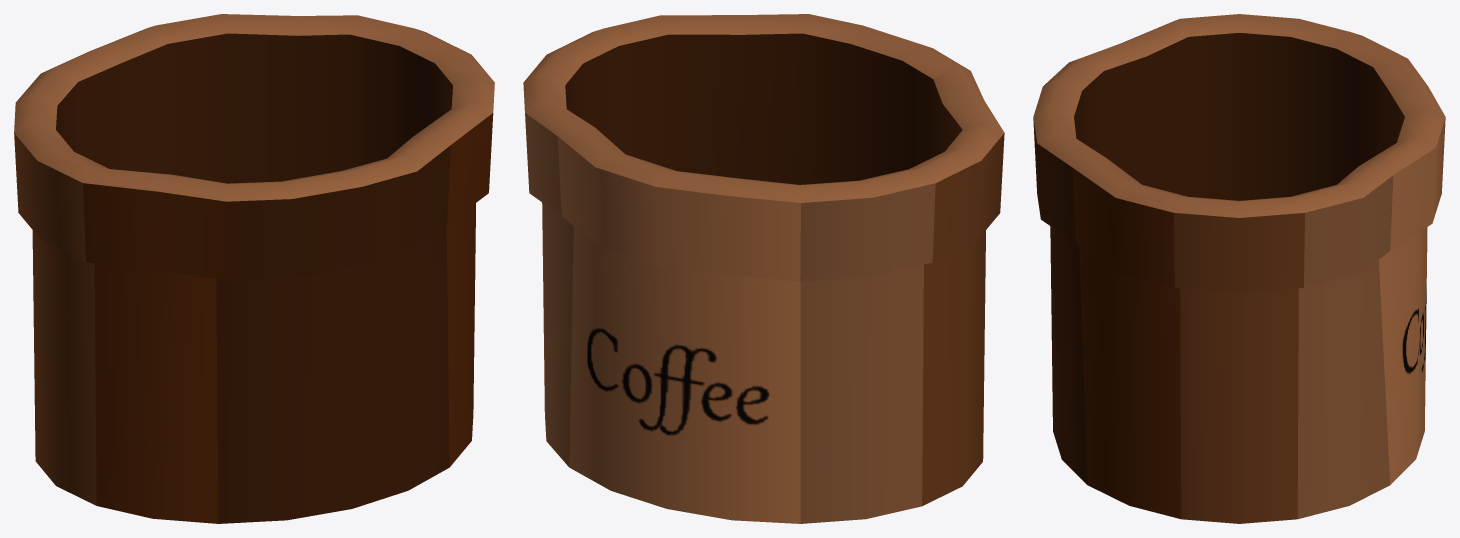
File: coffeebag.fbx
3 views of the same model, side by side, from view 1: azimuth 30°, elevation 25°; view 2: azimuth 150°, elevation 25°; view 3: azimuth 270°, elevation 25° (orthographic). The views are drawn at different scales.
Visible parts, largest first — view 1: pCylinder1; view 2: pCylinder1; view 3: pCylinder1.
Boxes of the visible parts, x1,y1,x2,y2 form: pCylinder1: [14, 14, 494, 523]; pCylinder1: [523, 14, 1004, 523]; pCylinder1: [1033, 14, 1445, 523].
Size of the model in its own units: 7.24 by 5.86 by 6.24.
1 material, 1 textured.
